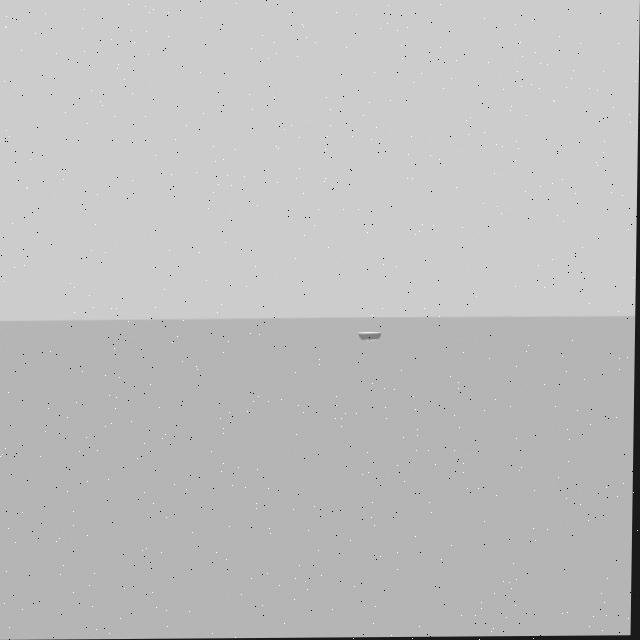bowl: (353, 324, 389, 352)
